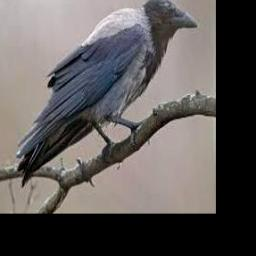Crow: (16, 0, 198, 186)
